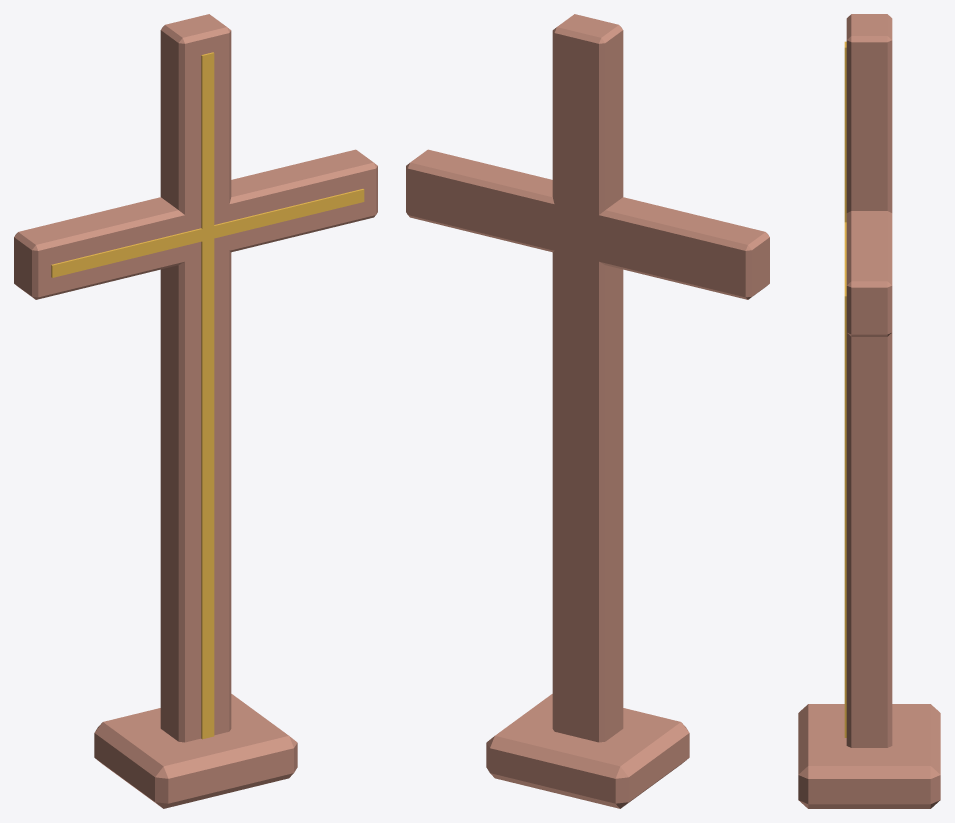
3 renders of one model, left to right at view 1: azimuth 30°, elevation 25°; view 2: azimuth 150°, elevation 25°; view 3: azimuth 270°, elevation 25°, orthographic.
Parts seen in each view (by area): view 1: Cross upright, Cross arm, Stepped plinth, Inset upright, Inset arm; view 2: Cross upright, Cross arm, Stepped plinth; view 3: Cross upright, Stepped plinth, Cross arm, Inset upright.
Boxes of the visible parts, <box> form: Cross upright: <box>160,14,231,742</box>; Cross arm: <box>14,149,377,299</box>; Stepped plinth: <box>94,694,297,808</box>; Inset upright: <box>201,52,214,739</box>; Inset arm: <box>51,189,364,277</box>; Cross upright: <box>552,14,623,742</box>; Cross arm: <box>406,149,769,299</box>; Stepped plinth: <box>486,694,689,808</box>; Cross upright: <box>846,14,892,747</box>; Stepped plinth: <box>798,704,940,808</box>; Cross arm: <box>846,211,892,336</box>; Inset upright: <box>844,41,846,737</box>.
Size of the model in its own units: 102 by 210 by 36.
